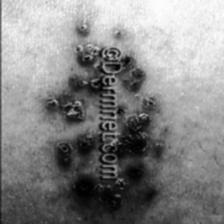Toxin: (41, 96, 92, 128), (68, 174, 102, 200)
